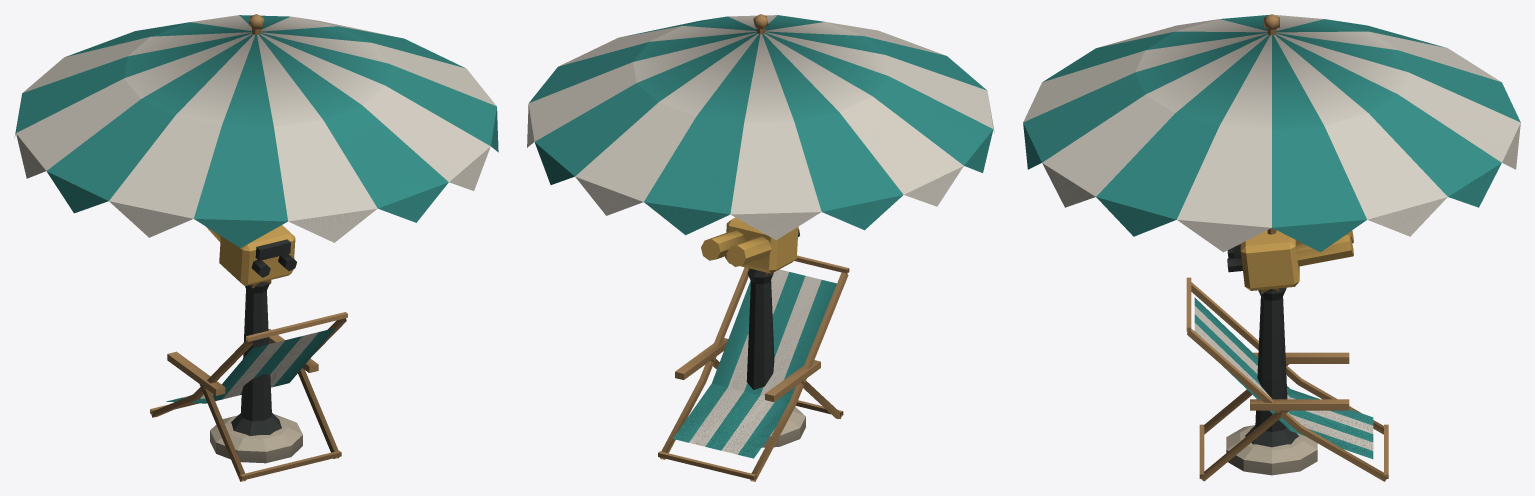
The model's file is pav_gq_props.glb.
The picture shows the model from 3 angles, left to right: view 1: azimuth 30°, elevation 25°; view 2: azimuth 150°, elevation 25°; view 3: azimuth 270°, elevation 25°; orthographic projection. The views are drawn at different scales.
Visible parts, largest first — view 1: gq_umbrella, gq_deckchair, gq_binocular; view 2: gq_umbrella, gq_deckchair, gq_binocular; view 3: gq_umbrella, gq_deckchair, gq_binocular.
Part boxes in pixels (x1,y1,x2,y2): gq_umbrella: (14,14,498,463); gq_deckchair: (150,312,347,481); gq_binocular: (206,225,296,435); gq_umbrella: (527,14,994,447); gq_deckchair: (658,255,849,481); gq_binocular: (701,217,799,389); gq_umbrella: (1023,14,1520,475); gq_deckchair: (1186,277,1388,481); gq_binocular: (1227,230,1353,447).
Size of the model in its own units: 2.7 by 2.65 by 2.7.
